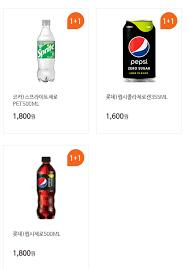pepsi_zero: (116, 19, 161, 83)
sprite_zero: (32, 17, 64, 85)
